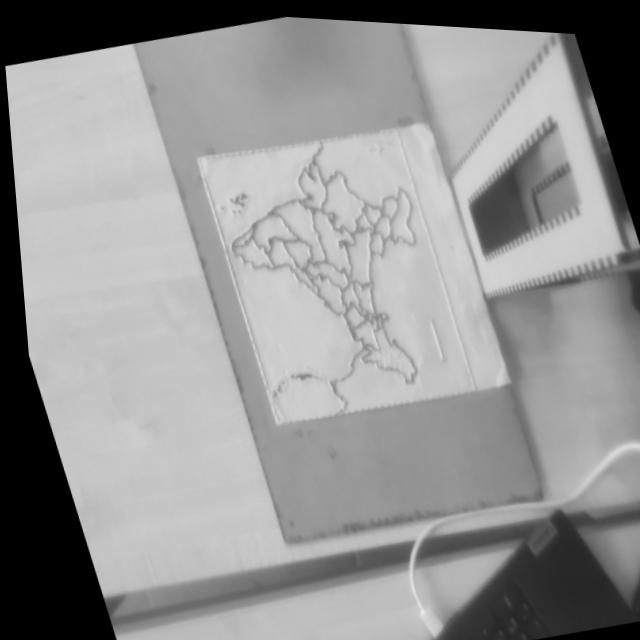map: (195, 99, 476, 448)
